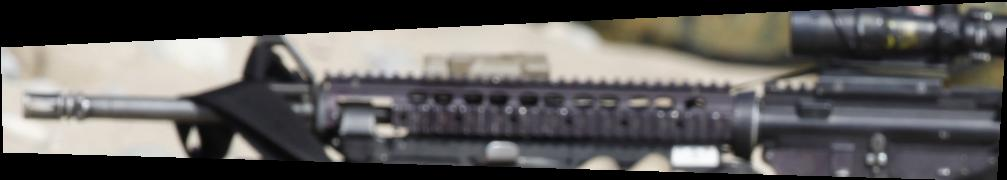gun: (1, 1, 1007, 180)
